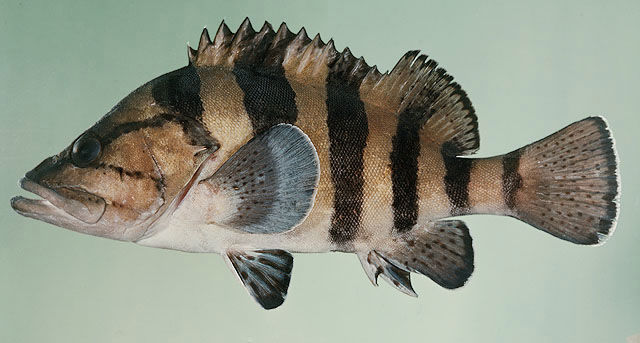fish: (11, 18, 620, 309)
